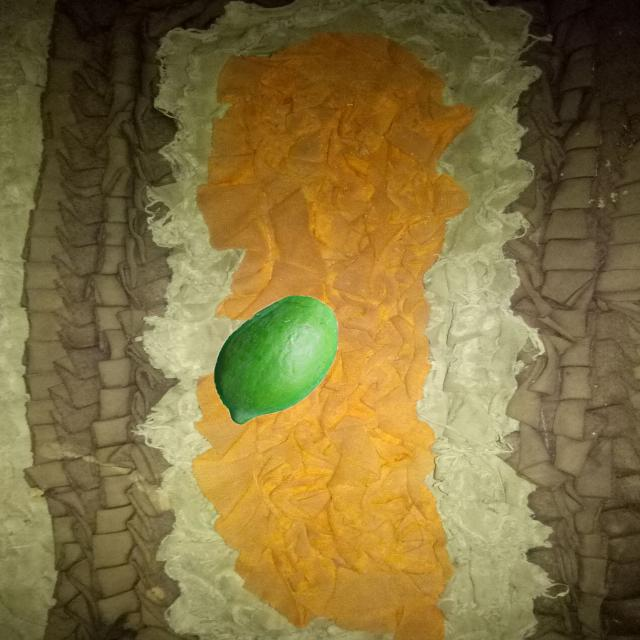Pepaya unrippen: (213, 294, 341, 431)
